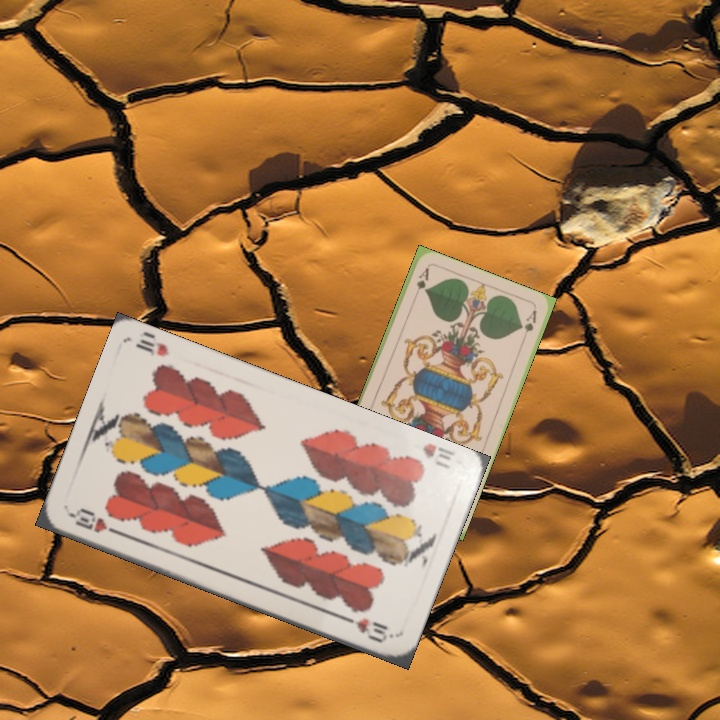GA: (409, 264, 432, 303)
H10: (65, 504, 123, 537), (418, 439, 458, 472)
